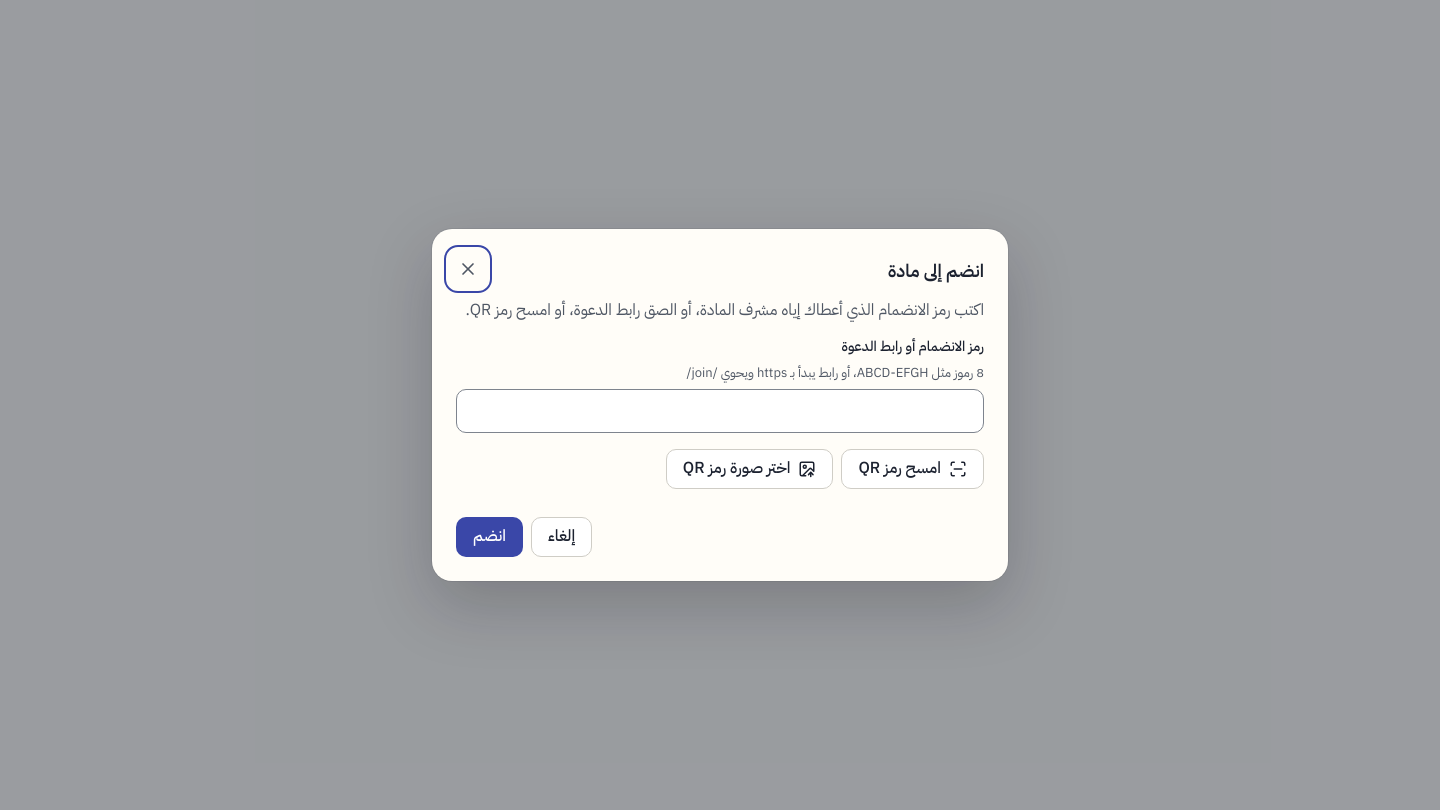
Test: «انضم برمز أو QR» › shows the server’s reason for a wrong or expired code, and a local reason for an impossible one
Type "ab" into the field labelled "رمز الانضمام أو رابط الدعوة" at (720, 411), box [456,389,984,433]
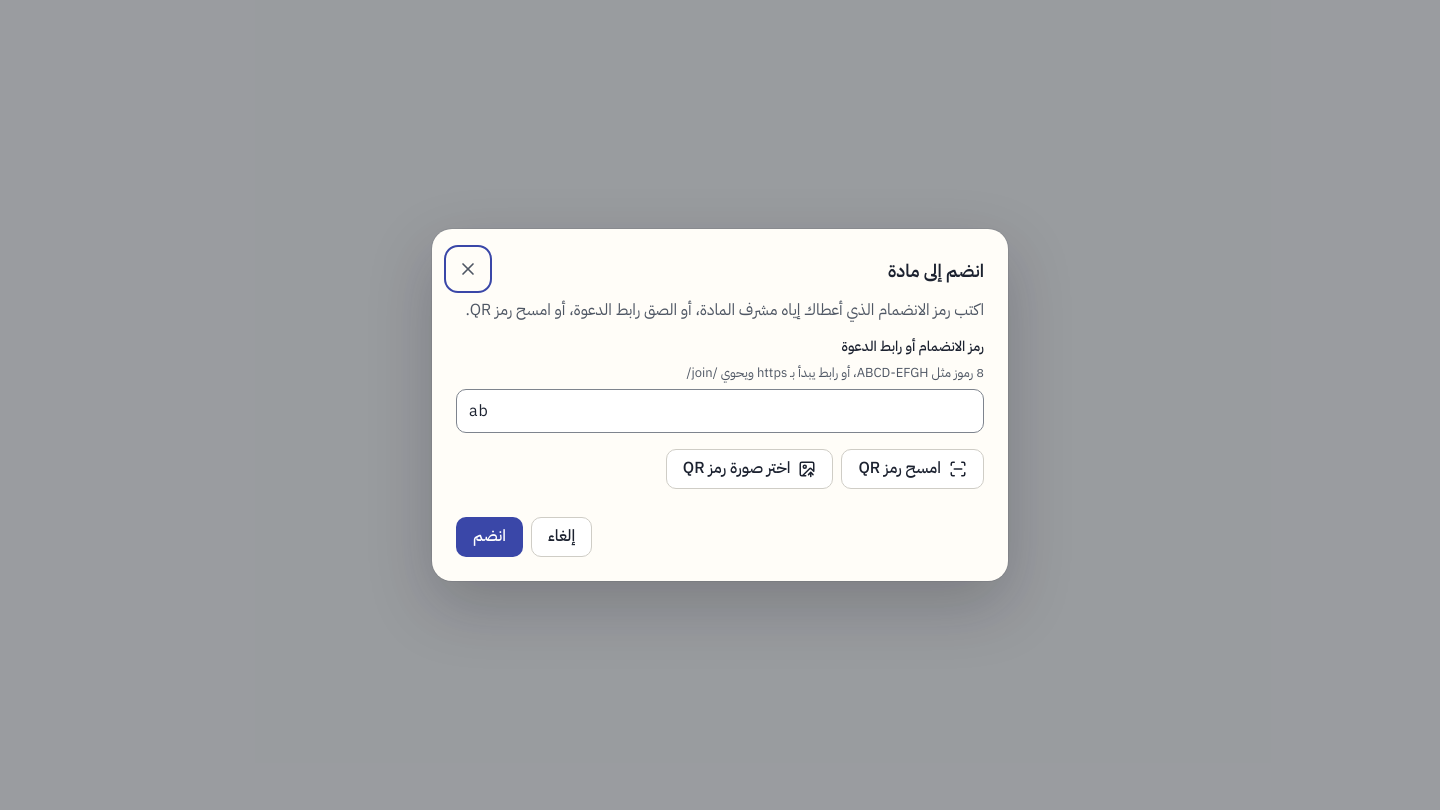
Click the button "انضم" at (490, 537), box [456,517,523,557]
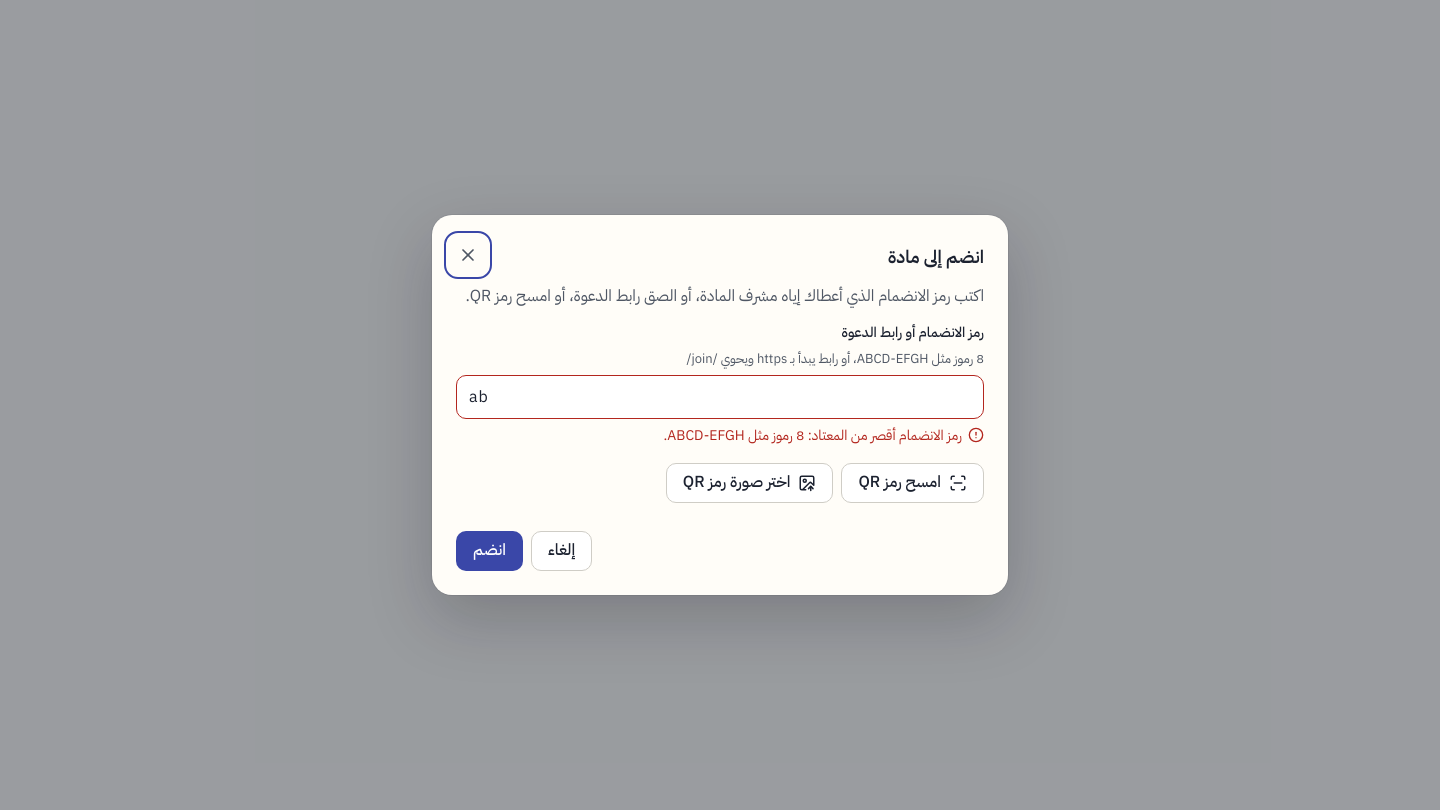
Expected: the text "رمز الانضمام أقصر من المعتاد: 8 رموز مثل ABCD-EFGH." is shown, [664,425,962,447]
Replace the text in the field labelled "رمز الانضمام أو رابط الدعوة" with "ZZZZ-ZZZZ" at (720, 397), box [456,375,984,419]
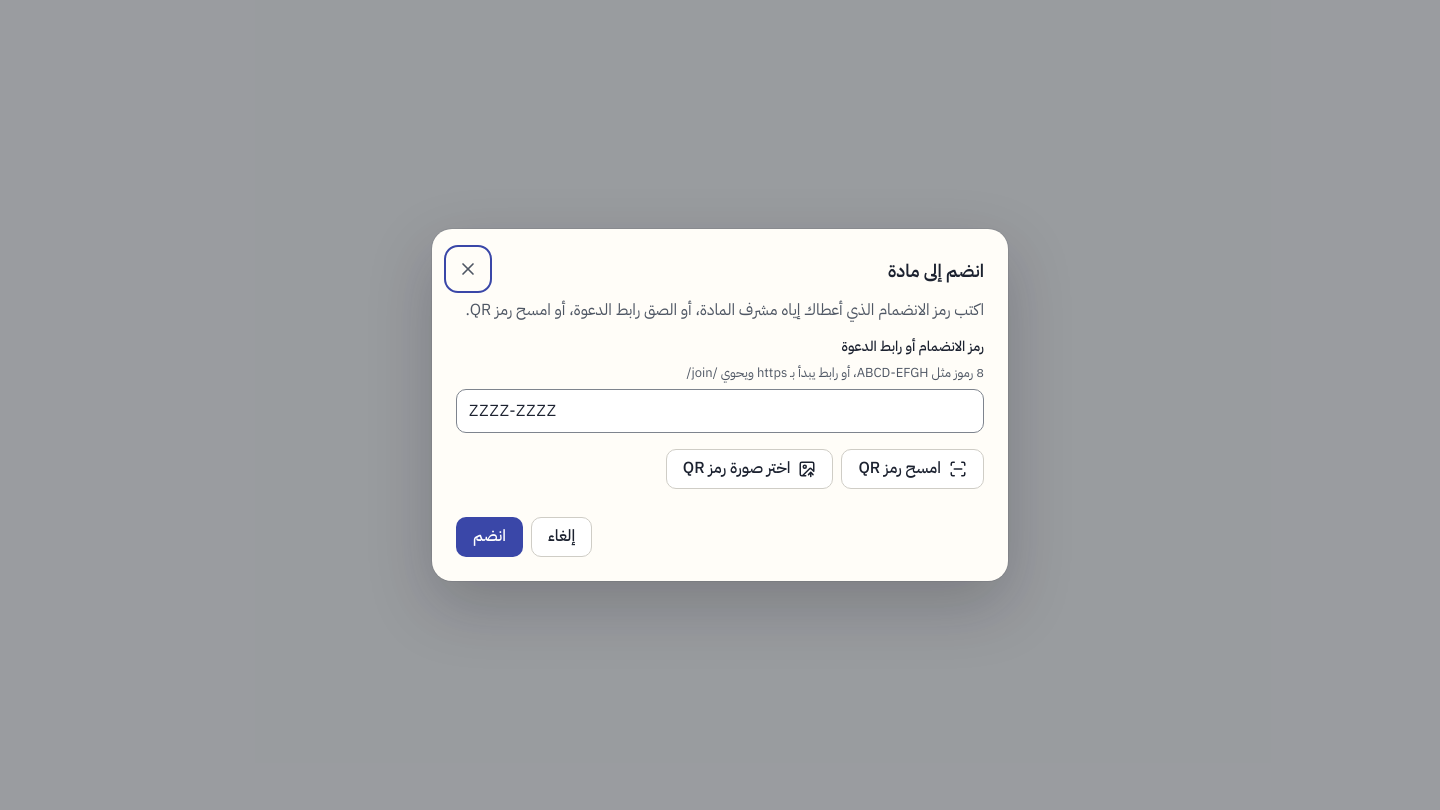
Click the button "انضم" at (490, 537), box [456,517,523,557]
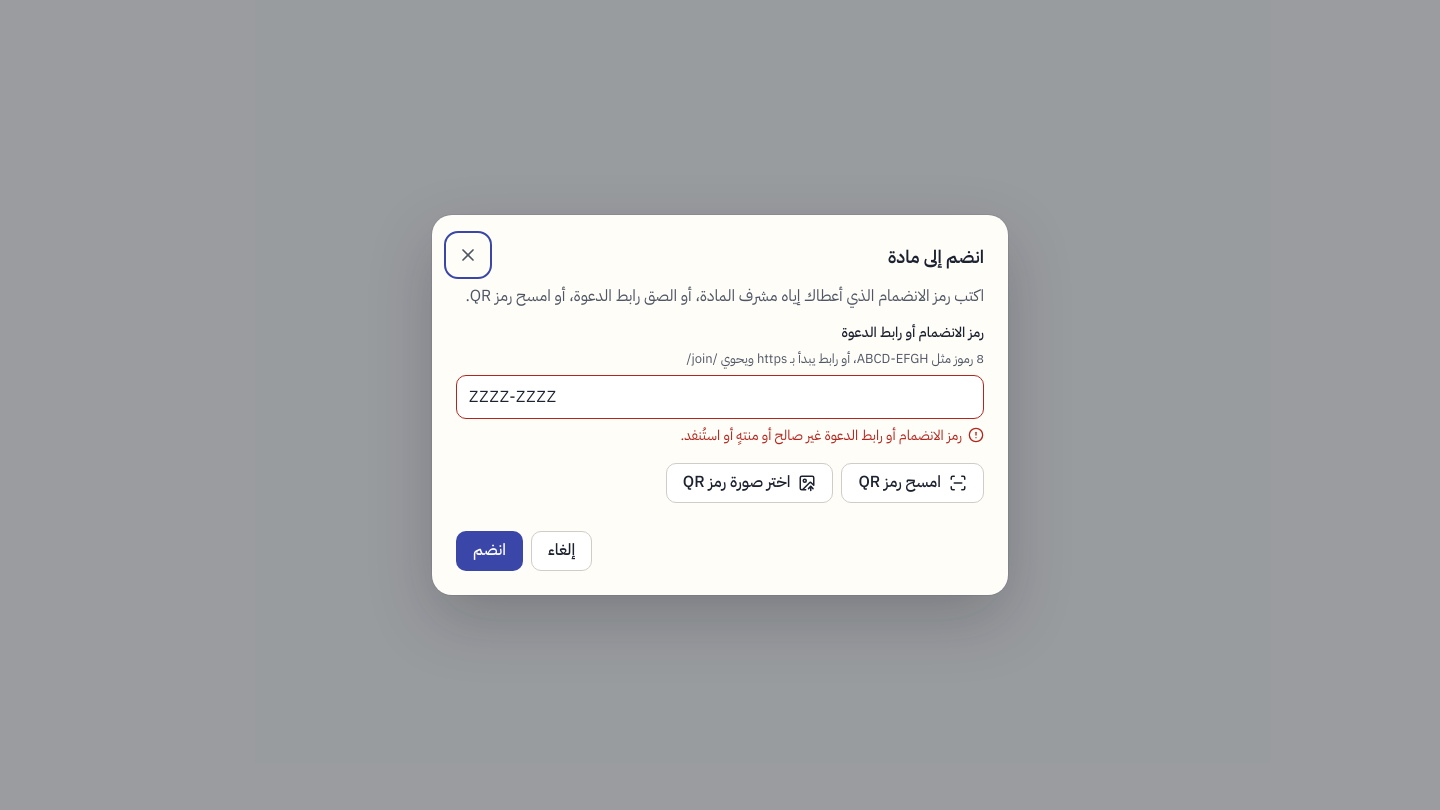
Expected: the text "رمز الانضمام أو رابط الدعوة غير صالح أو منتهٍ أو استُنفد." is shown, [680,425,962,447]
